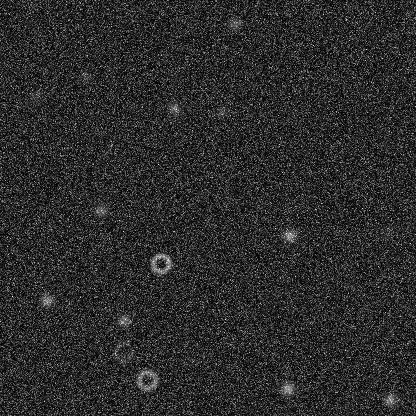Ring: (111, 340, 135, 364), (134, 367, 158, 391), (148, 251, 172, 275)
Spot: (27, 87, 43, 103), (115, 312, 131, 328), (279, 380, 295, 396), (77, 67, 93, 83), (92, 202, 108, 218), (226, 15, 242, 31), (281, 227, 297, 243), (379, 224, 395, 240), (382, 391, 398, 407), (214, 103, 230, 119), (166, 100, 182, 116), (39, 292, 55, 308)
